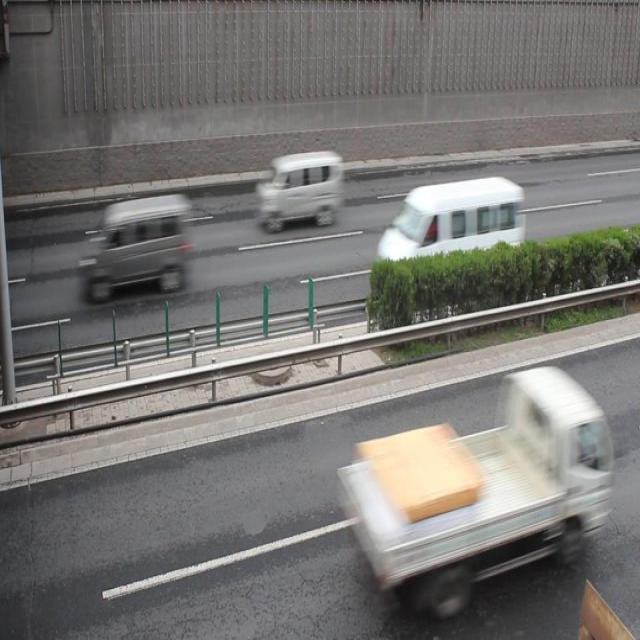bus: (337, 364, 603, 607)
truck: (374, 177, 523, 289), (76, 193, 191, 302), (255, 149, 341, 230)
